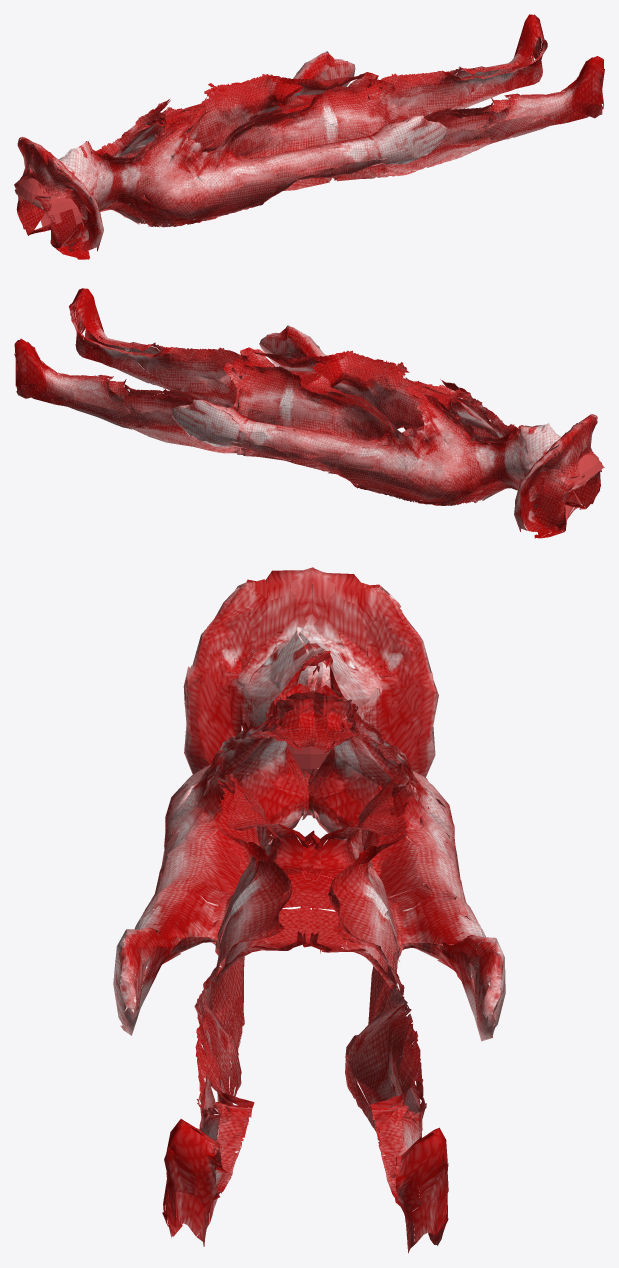
The model's file is red_soldier.gltf.
The picture shows the model from 3 angles, top to bottom: view 1: azimuth 30°, elevation 25°; view 2: azimuth 150°, elevation 25°; view 3: azimuth 270°, elevation 25°; orthographic projection. The views are drawn at different scales.
Parts seen in each view (by area): view 1: mesh.001; view 2: mesh.001; view 3: mesh.001.
Part boxes in pixels (bbox=[...]): mesh.001: bbox=[14, 14, 604, 259]; mesh.001: bbox=[14, 288, 604, 538]; mesh.001: bbox=[113, 567, 505, 1253].
Bounding box in the file's own units: 3.12 × 0.6136 × 0.9639.
4 materials, 4 textured.
